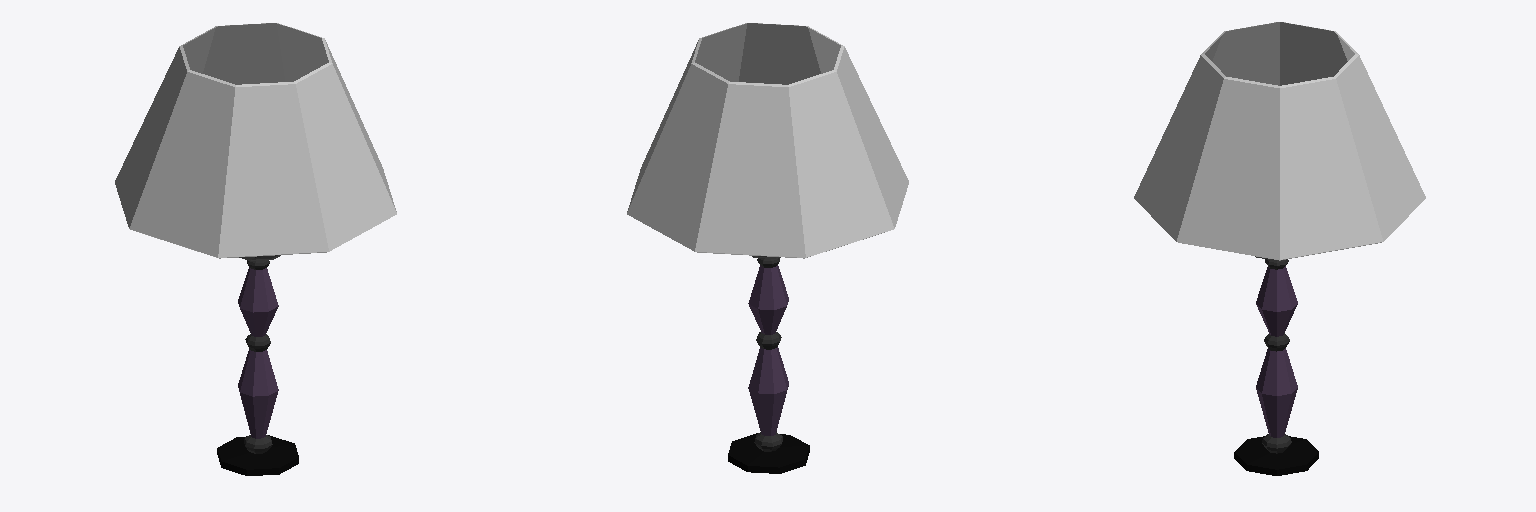
File: Texture_Lamp.obj
3 renders of one model, left to right at view 1: azimuth 30°, elevation 25°; view 2: azimuth 150°, elevation 25°; view 3: azimuth 270°, elevation 25°, orthographic.
Visible parts, largest first — view 1: Lamp; view 2: Lamp; view 3: Lamp.
Part boxes in pixels (bbox=[...]): Lamp: bbox=[115, 23, 396, 475]; Lamp: bbox=[627, 23, 908, 473]; Lamp: bbox=[1134, 22, 1425, 475].
Bounding box in the file's own units: 50.54 × 76.97 × 50.54.